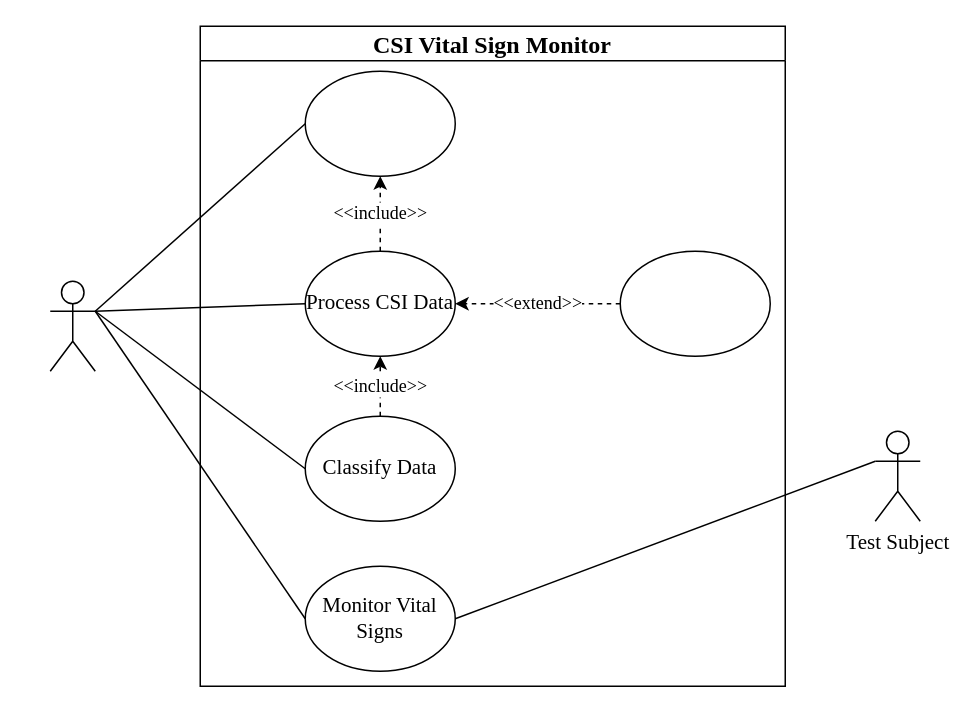
Image size: 975x713. Some labels were removed from this diagram. Here are the shapes that lost their labels. From the top down, the centre of each, then its label:
(x=379, y=123): Load CSI Data
(x=694, y=303): Select Filtering Process
(x=72, y=325): Researcher
